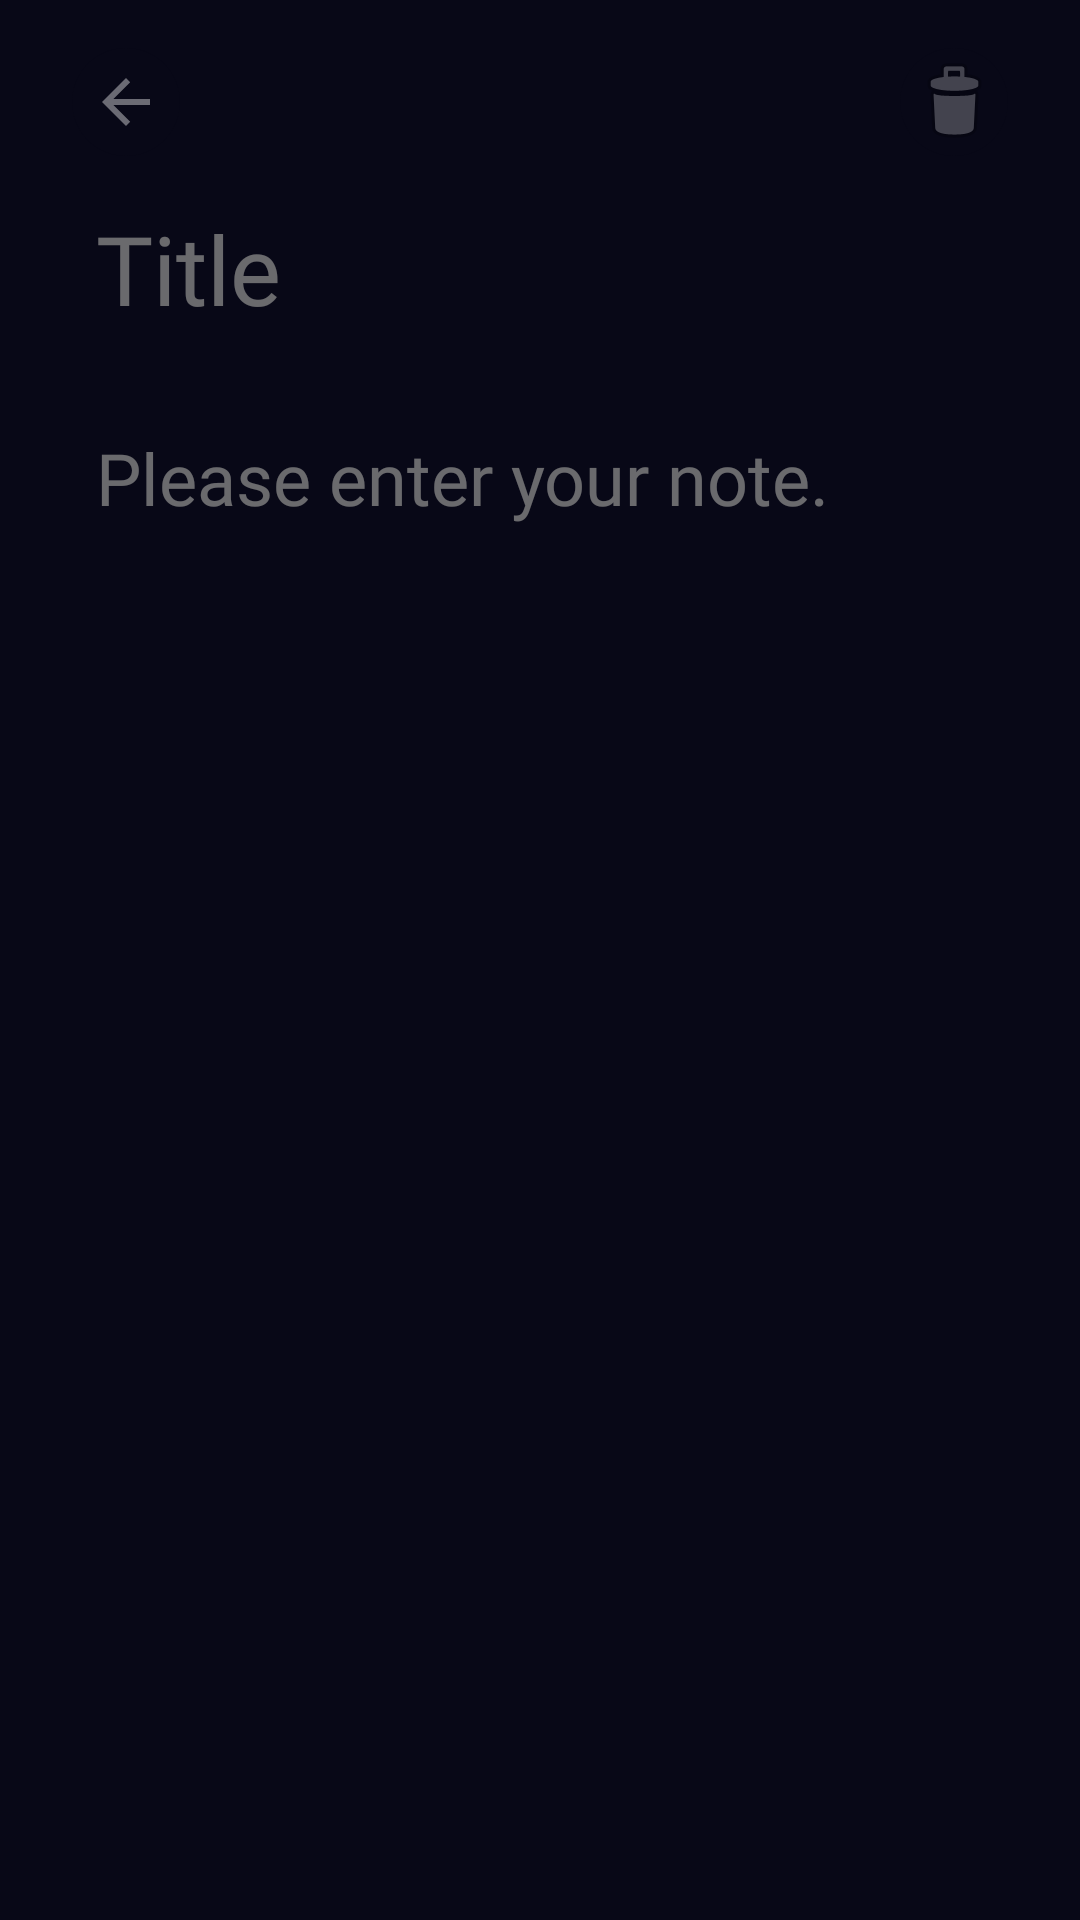

Named icons in this screenshot (1080w x 1920h) and their bounding boxes, (x1, y1, x2, y2):
Delete Button: (931, 66, 978, 135)
